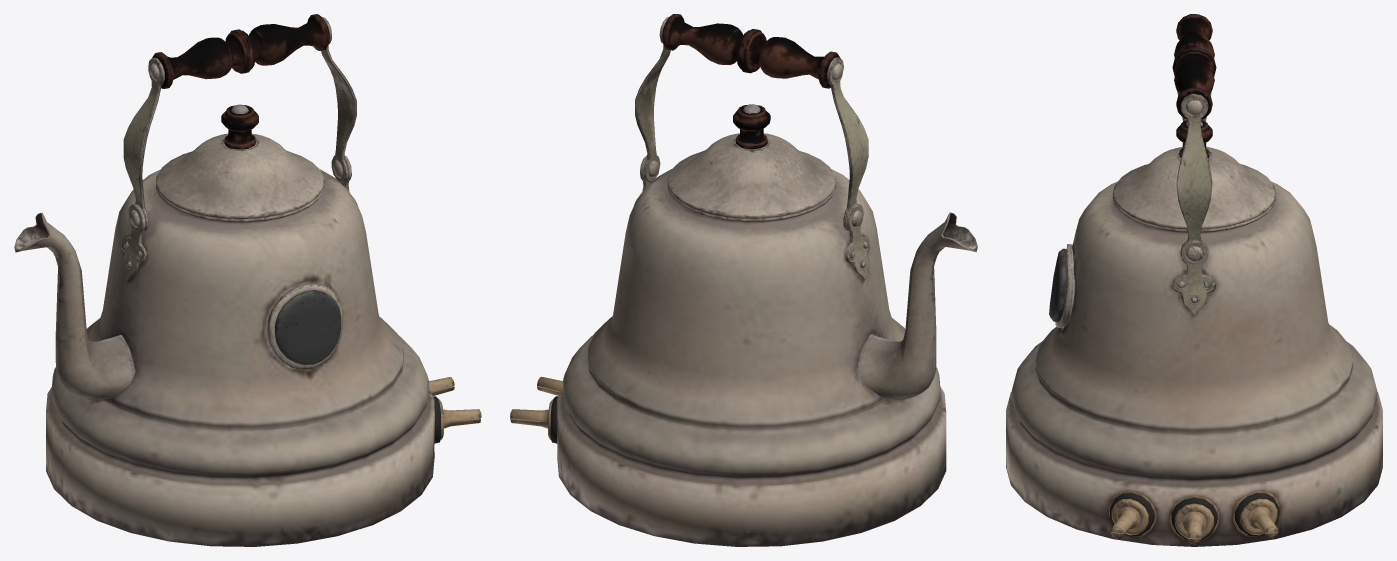
File: vintage_electric_kettle.glb
3 views of the same model, side by side, from view 1: azimuth 30°, elevation 25°; view 2: azimuth 150°, elevation 25°; view 3: azimuth 270°, elevation 25° (orthographic). The views are drawn at different scales.
Visible parts, largest first — view 1: vintage_electric_kettle; view 2: vintage_electric_kettle; view 3: vintage_electric_kettle.
Boxes of the visible parts, x1,y1,x2,y2 form: vintage_electric_kettle: (14,14,481,546); vintage_electric_kettle: (510,14,977,546); vintage_electric_kettle: (1006,14,1382,546).
Bounding box in the file's own units: 0.3209 × 0.3047 × 0.2478.
Materials: 2 (2 with a texture image).
